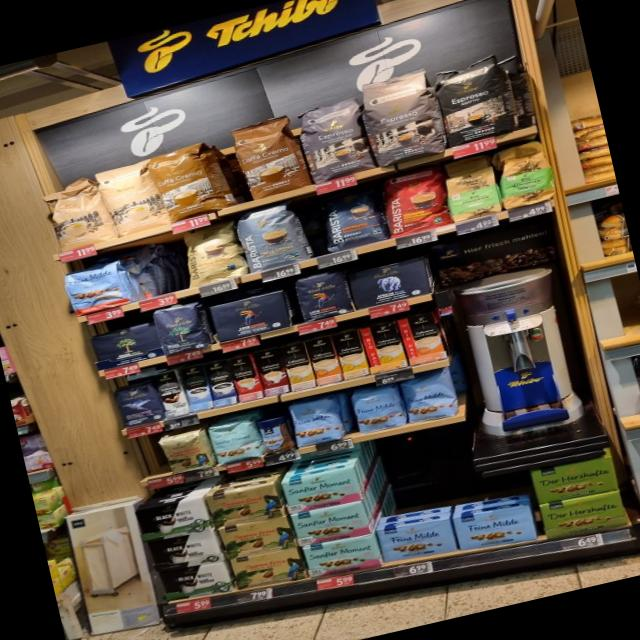AB Gemahlen: (343, 254, 432, 311)
Athiopien Bohne: (494, 148, 557, 210)
Athiopien Gemahlen: (444, 166, 504, 225)
BM Gemahlen: (144, 529, 223, 573), (136, 497, 210, 543), (157, 560, 235, 602)
BW Bohne: (150, 298, 214, 357)
BW Gemahlen: (87, 321, 162, 369)
Barista CB: (177, 215, 249, 289)
Barista CC: (233, 199, 312, 274)
Barista Espresso: (319, 180, 389, 253)
Barista Kolumbien: (375, 161, 452, 239)
C Fino Bohne: (110, 379, 164, 429)
CC Mild: (36, 172, 117, 253), (95, 157, 169, 237)
CC Vollmundig 36 Pads: (228, 111, 311, 200), (149, 138, 227, 224)
Colombia BB Bohne: (157, 427, 217, 476)
Colombia BB Gemahlen: (204, 482, 284, 528), (228, 546, 307, 590), (219, 515, 297, 559)
Empty Shelf: (368, 426, 467, 490), (126, 232, 191, 301), (451, 466, 530, 516), (375, 480, 449, 529), (128, 436, 168, 482)
Espresso Aromatisch: (354, 65, 447, 171), (292, 92, 375, 186)
Espresso Kraftig: (429, 50, 517, 151)
FM 36 Pads: (62, 255, 137, 317)
FM Bohne: (401, 371, 457, 426), (288, 394, 345, 448), (352, 383, 408, 435)
FM Gemahlen: (454, 504, 537, 551), (375, 518, 459, 562)
FM Instant: (255, 413, 295, 456)
Herzhatfe Mundig: (538, 491, 628, 539), (531, 455, 619, 504)
LG Bohne: (288, 267, 353, 323)
LG Gemahlen: (206, 287, 294, 343)
SM Bohne: (207, 416, 263, 466)
SM Gemahlen: (281, 466, 362, 515), (289, 501, 370, 546), (301, 534, 379, 578)
Simo CCMild: (359, 320, 408, 373)
Simo CCMild bigpack: (333, 328, 371, 379)
Simo CCVollmundig: (398, 311, 447, 365)
Simo CCVollmundig bigpack: (305, 333, 343, 386)
Simo Decaff: (278, 339, 317, 391)
Simo Es Brazil: (226, 353, 263, 403)
Simo Es Caramel: (251, 345, 290, 397)
Simo Es Elegant: (151, 369, 189, 418)
Simo Es Kraft: (203, 357, 238, 408)
Simo Es Vanilla: (179, 362, 213, 412)
